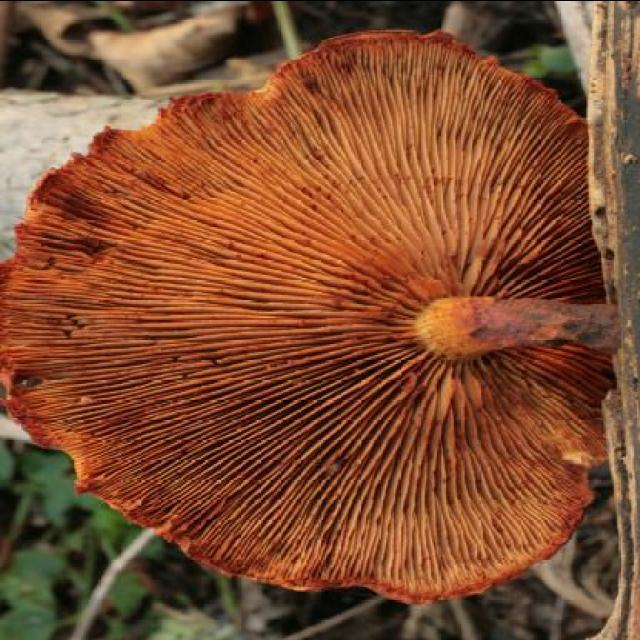Mushroom: (8, 42, 612, 630)
